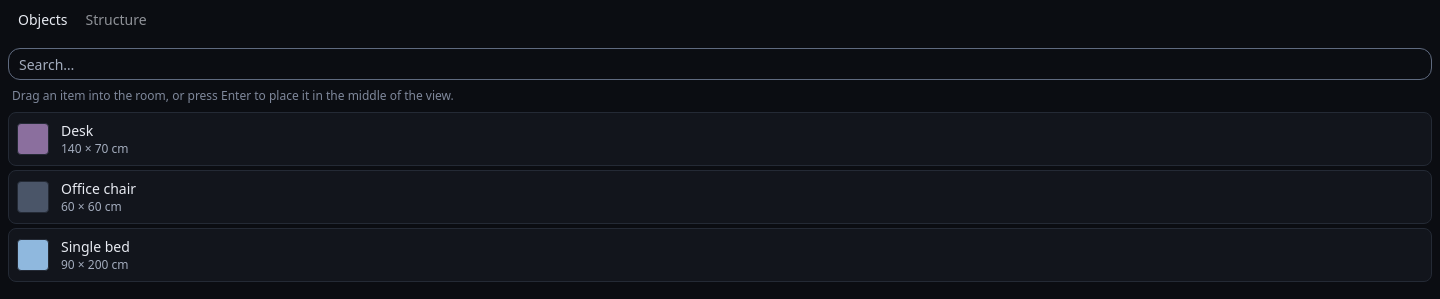
Scenario: CatalogPanel: the Structure tab (doors and windows) › opens on the objects; the Structure tab lists doors and windows by width × height
The width and height of the screenshot is (1440, 299).
Expected: the list named "Catalog items" is shown, [8, 112, 1432, 282]
Click the tab "Structure": click(116, 20) [78, 7, 154, 33]
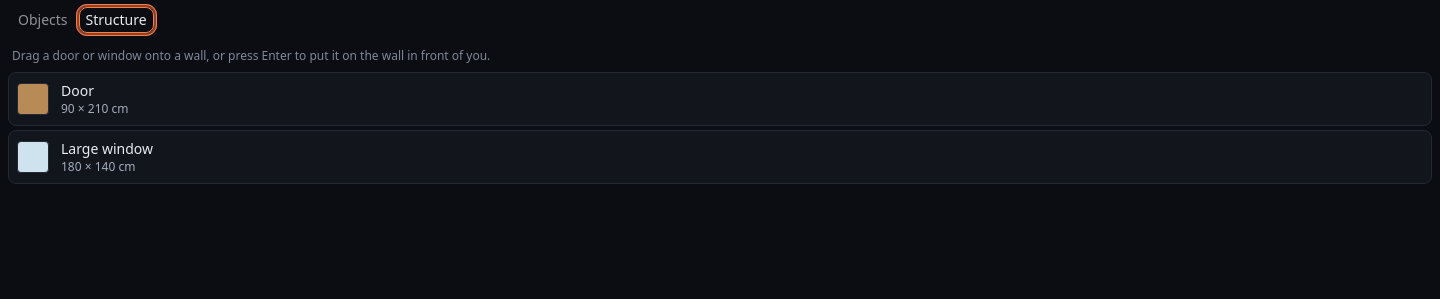
Expected: the number of list items is 2, [8, 72, 1432, 126]; [8, 130, 1432, 184]
Expected: the button "Large window 180 × 140 cm" is shown, [8, 130, 1432, 184]
